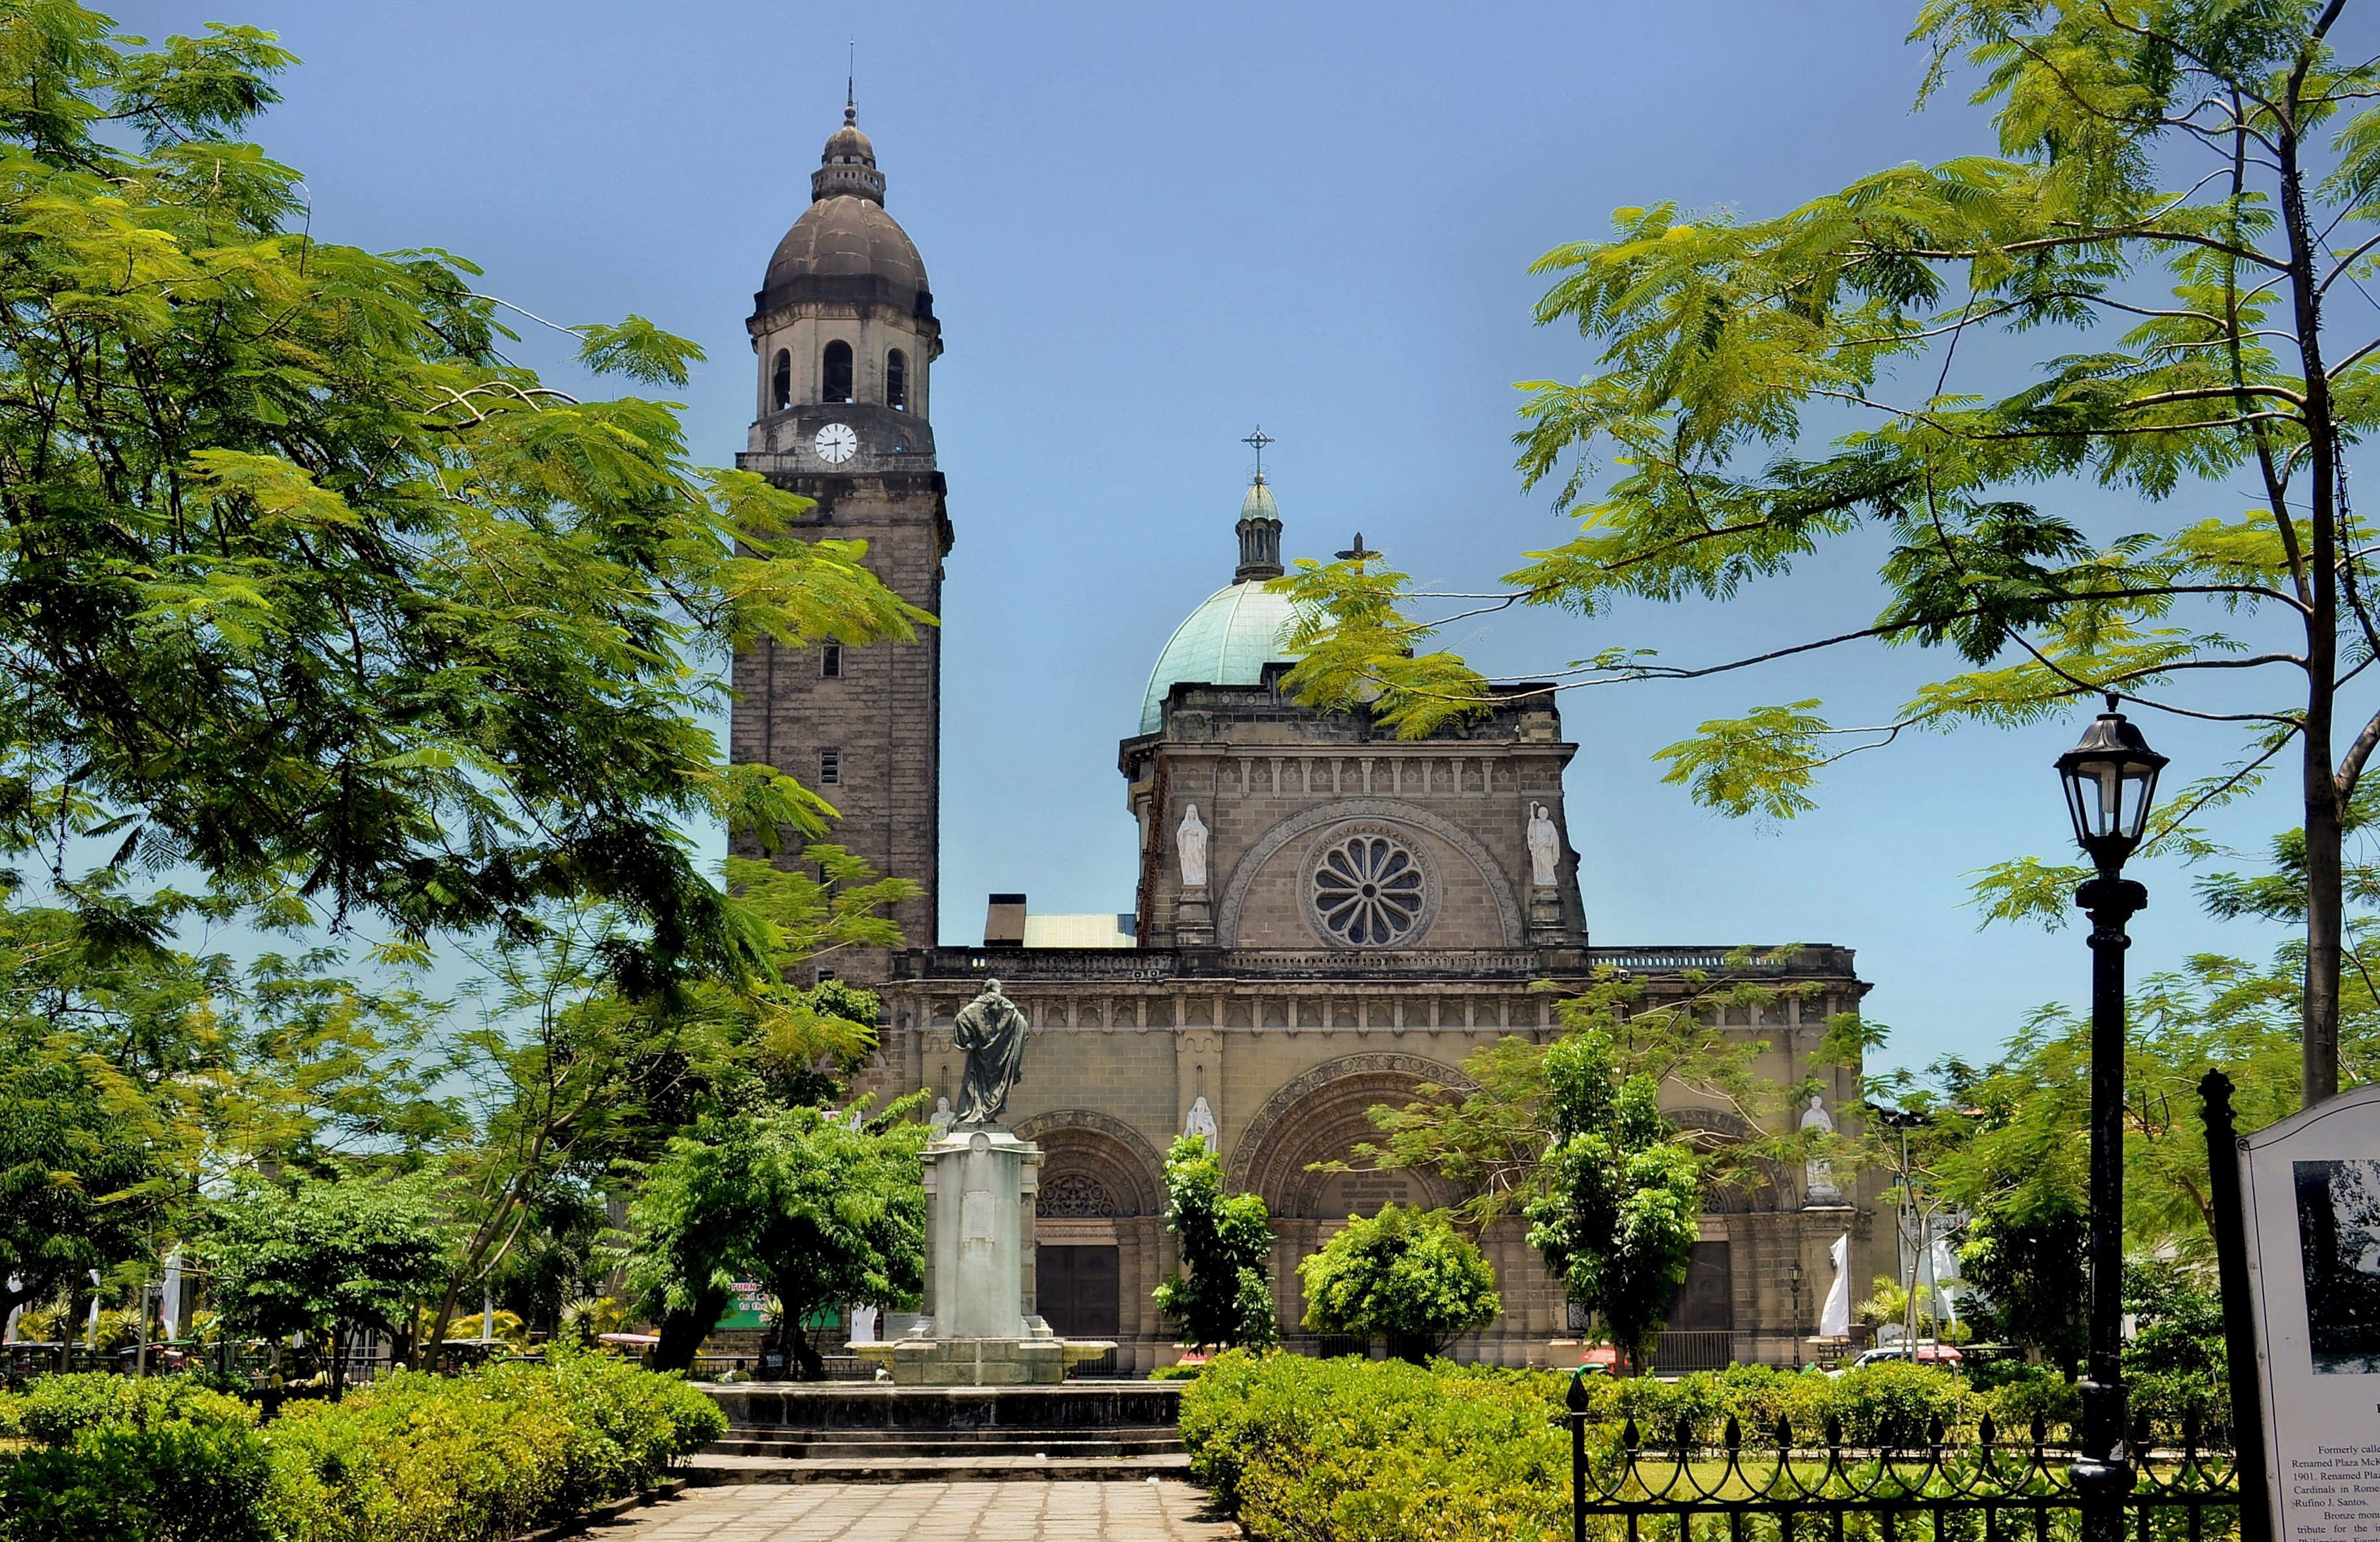manila_cathedral_church_intramuros_manila: (692, 31, 1884, 1374)
